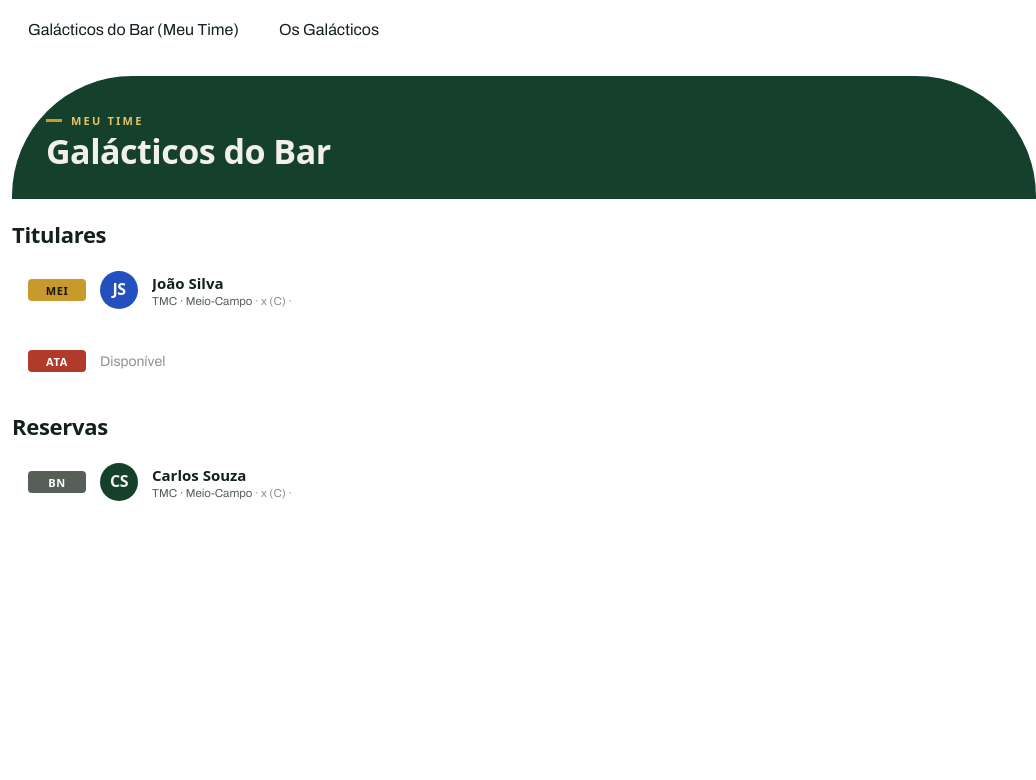
it: TeamTab (Times) › shows the team switcher and switches the viewed team (refetching for the new id)
This screenshot has width=1036, height=780.
What coordinates should you click on to do the following:
click the button "Os Galácticos"
I would click on:
 (329, 29)
Its box is top-left (263, 12), bottom-right (395, 46).
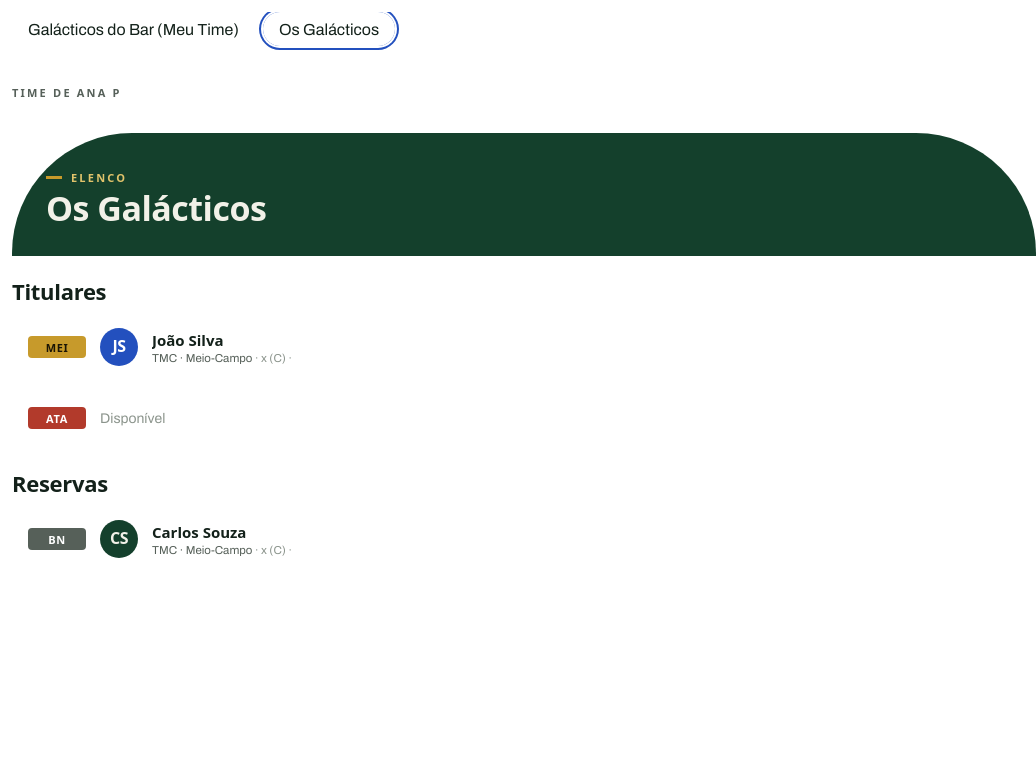
Now the text "Time de Ana P" is shown, box top-left (12, 85), bottom-right (122, 100)
